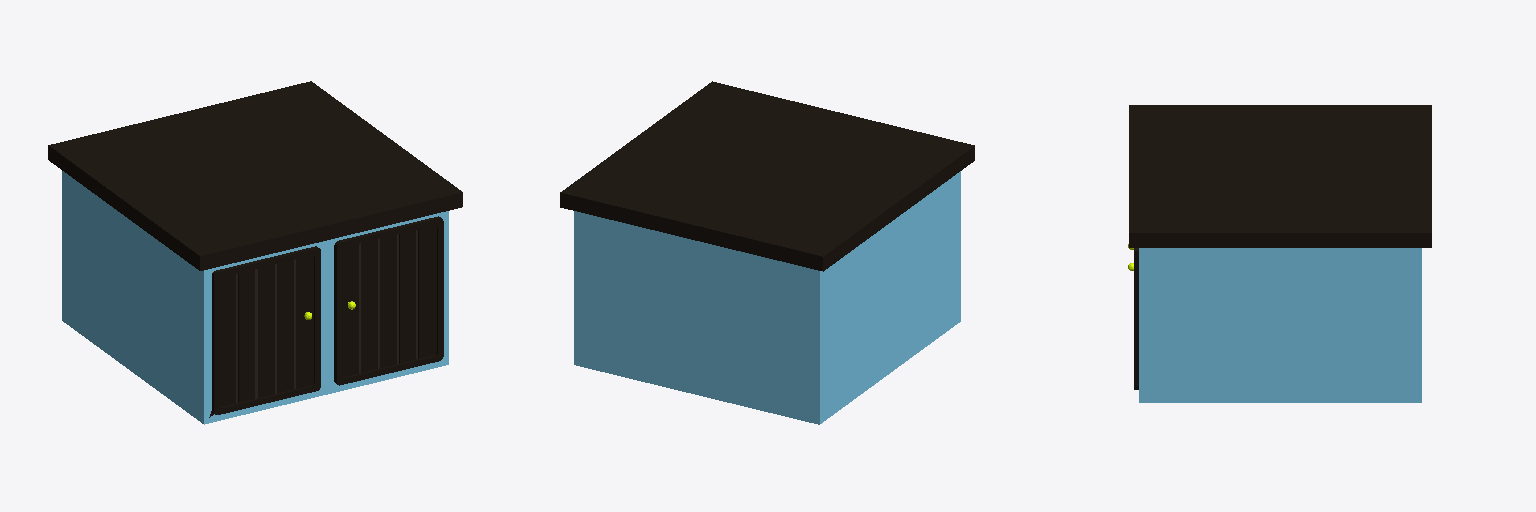
File: Countertop.obj
3 views of the same model, side by side, from view 1: azimuth 30°, elevation 25°; view 2: azimuth 150°, elevation 25°; view 3: azimuth 270°, elevation 25° (orthographic).
Visible parts, largest first — view 1: Countertop; view 2: Countertop; view 3: Countertop.
Boxes of the visible parts, box(x1,y1,x2,y2) form: Countertop: box(48, 81, 462, 424); Countertop: box(560, 81, 974, 424); Countertop: box(1128, 105, 1431, 402).
Bounding box in the file's own units: 3.46 × 2.19 × 3.47.